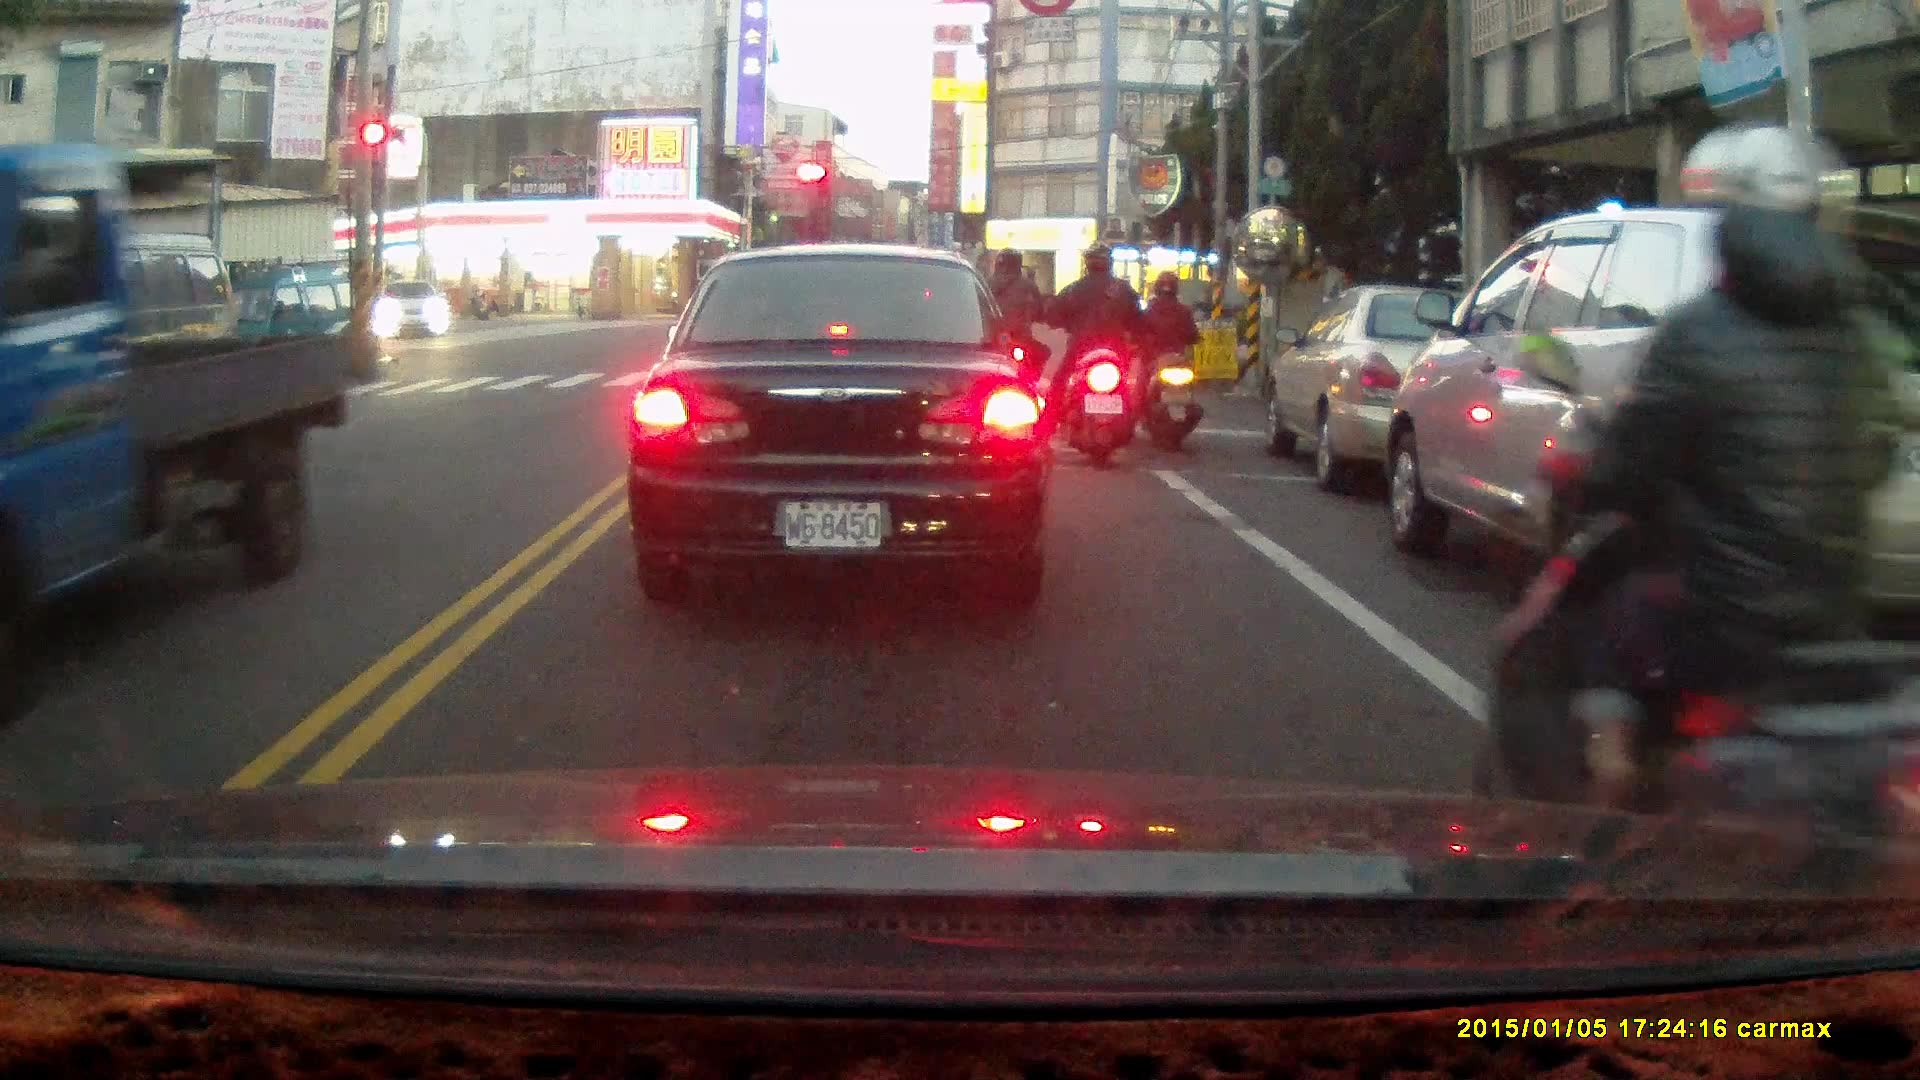rider: (1485, 120, 1920, 981), (1039, 243, 1145, 468), (964, 253, 1048, 433), (1133, 272, 1203, 452)
vehicle: (1379, 200, 1920, 682), (1, 138, 354, 699), (633, 248, 1043, 600), (1260, 288, 1576, 493), (199, 264, 386, 395), (372, 277, 451, 343)
